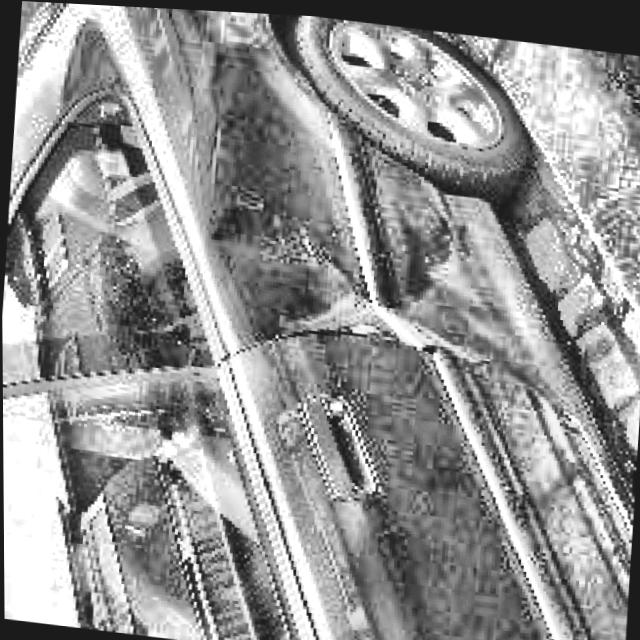door_dent: (189, 101, 448, 358)
